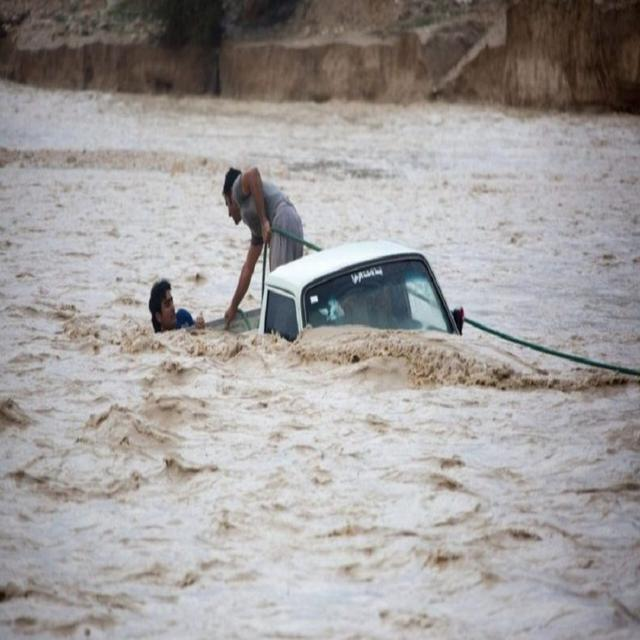Car-RiskLevel3: (201, 236, 478, 377)
Person-RiskLevel3: (211, 163, 326, 338), (116, 268, 214, 348)
